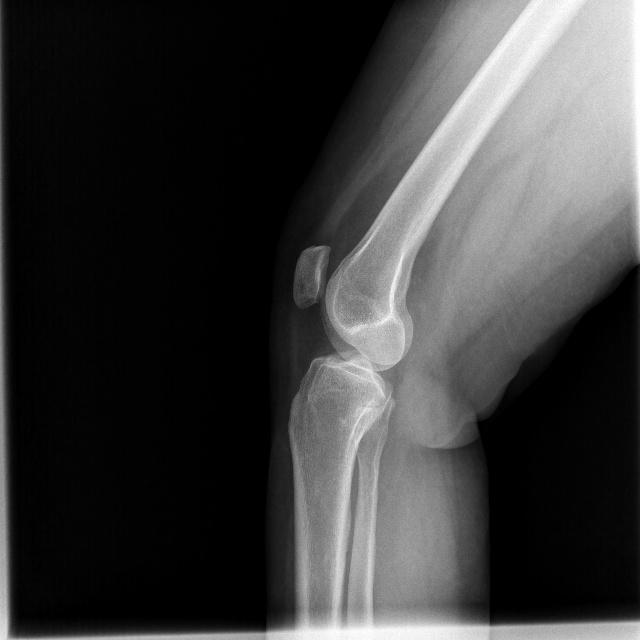Knee: (286, 237, 413, 456)
